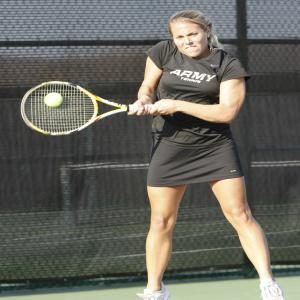TennisBall: (45, 93, 64, 107)
